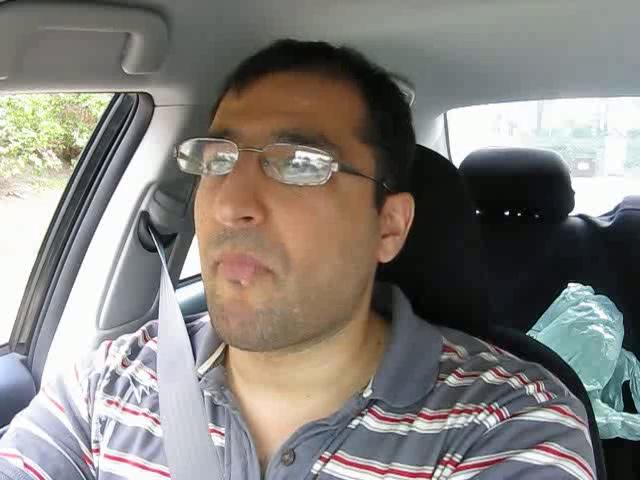no_yawn: (198, 238, 294, 293)
open_eyeL: (191, 142, 250, 183)
open_eyeR: (266, 145, 342, 191)
